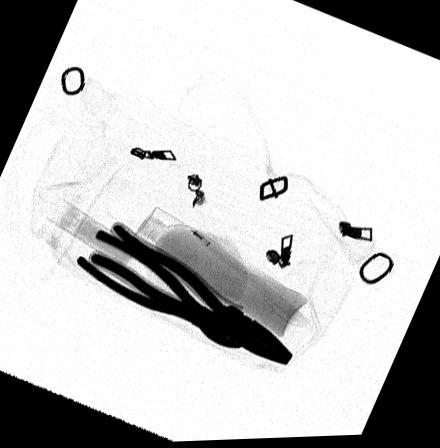Pliers: (88, 222, 299, 373), (75, 231, 250, 353)
